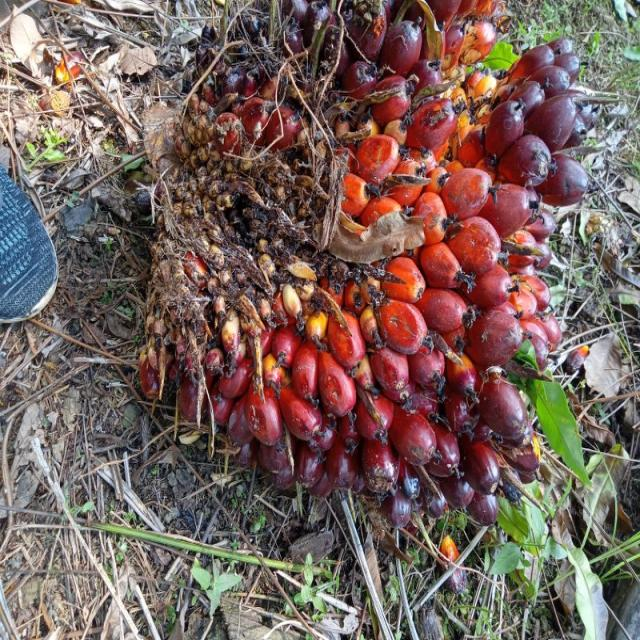fraksi 3: (115, 0, 615, 574)
